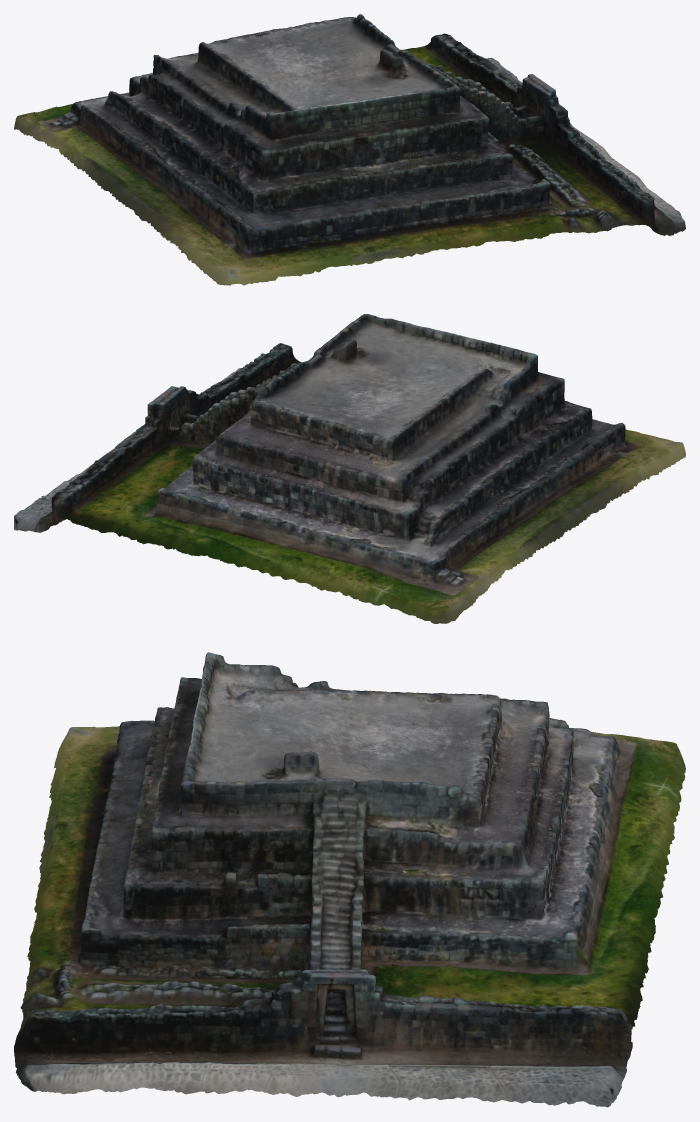
File: ushnu-2-mobile.glb
The picture shows the model from 3 angles, top to bottom: view 1: azimuth 30°, elevation 25°; view 2: azimuth 150°, elevation 25°; view 3: azimuth 270°, elevation 25°; orthographic projection. The views are drawn at different scales.
Parts seen in each view (by area): view 1: Model; view 2: Model; view 3: Model.
Boxes of the visible parts, x1,y1,x2,y2 form: Model: (14,14,685,285); Model: (14,314,685,623); Model: (14,652,685,1107).
Size of the model in its own units: 39.62 by 12.4 by 35.75.
Materials: 1 (1 with a texture image).
